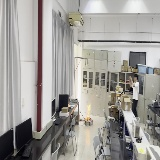fire: (85, 103, 91, 121)
